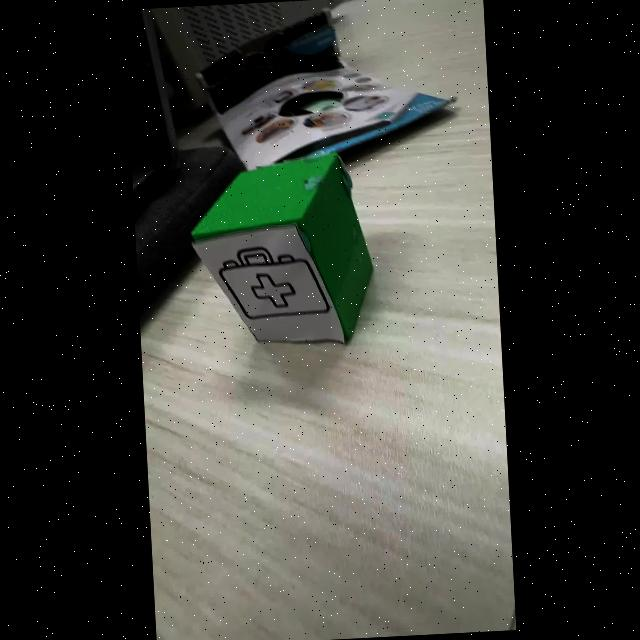Medkit: (219, 248, 329, 319)
